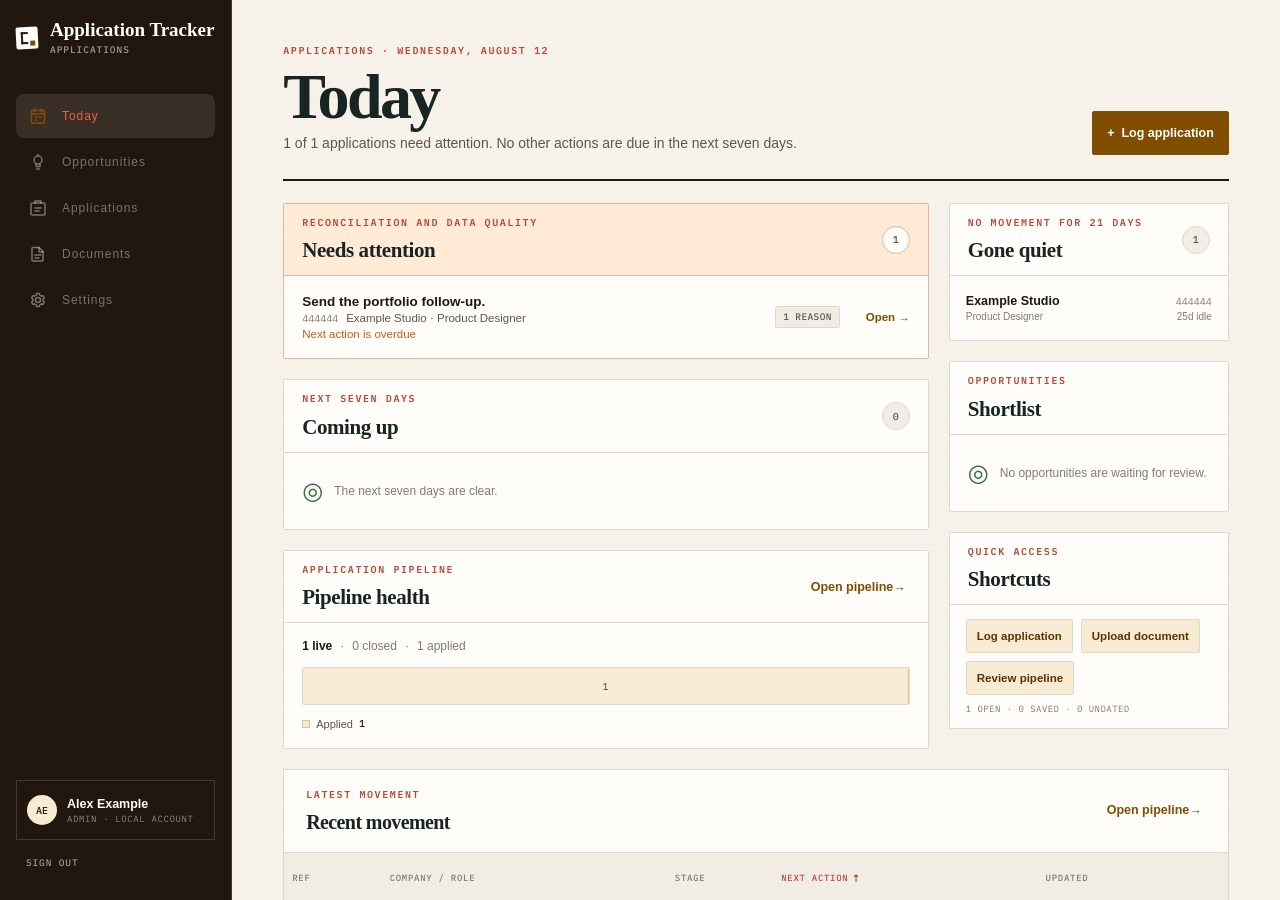
it: application shell › reuses shared workspace data while moving between tabs
Expected: the heading "Today" is shown, [283,60,439,132]
Click the button "Documents".
click(116, 254)  # box [16,232,215,276]
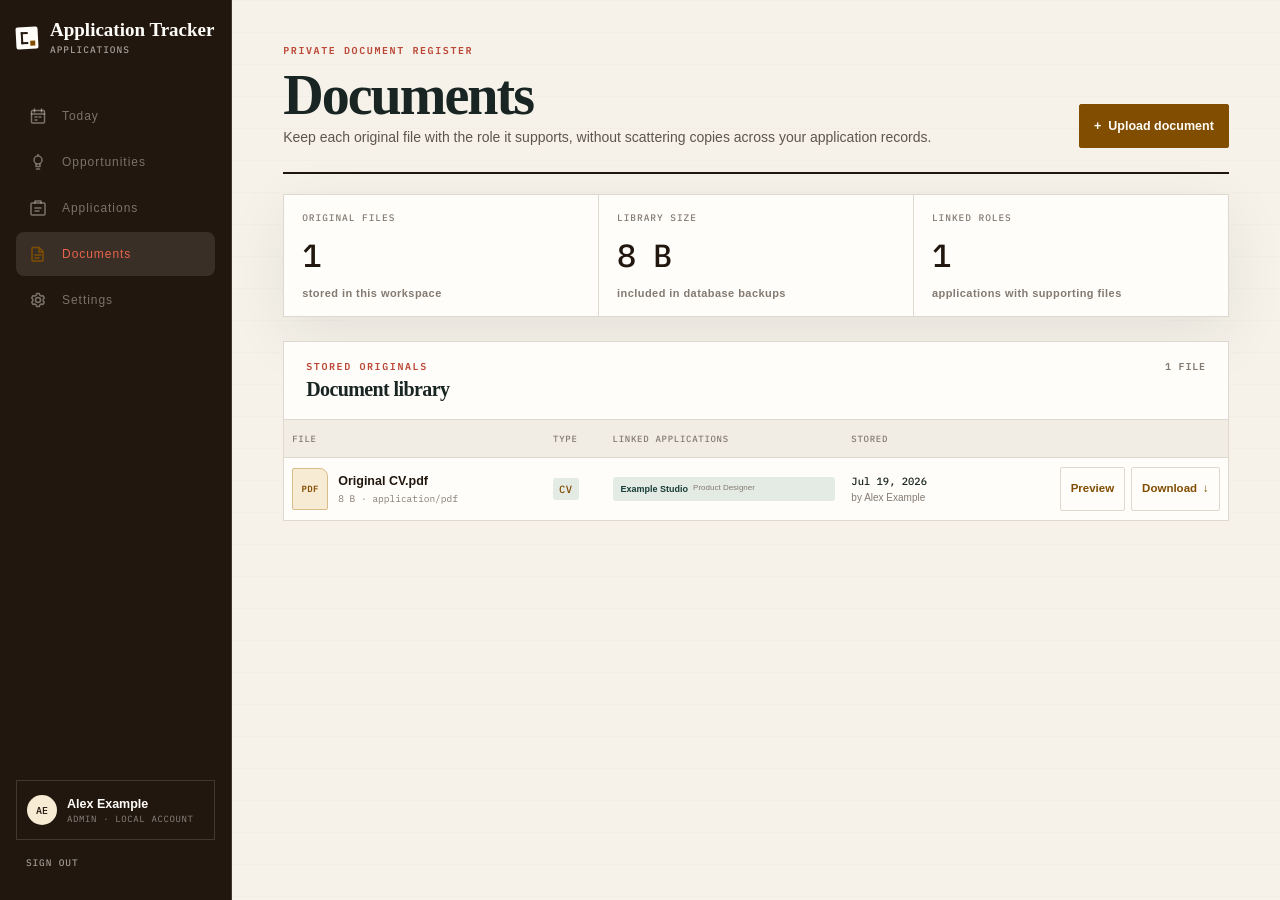
Result: the heading "Documents" is shown at [283,64,533,126]
Click the button "Applications".
click(116, 208)  # box [16,186,215,230]
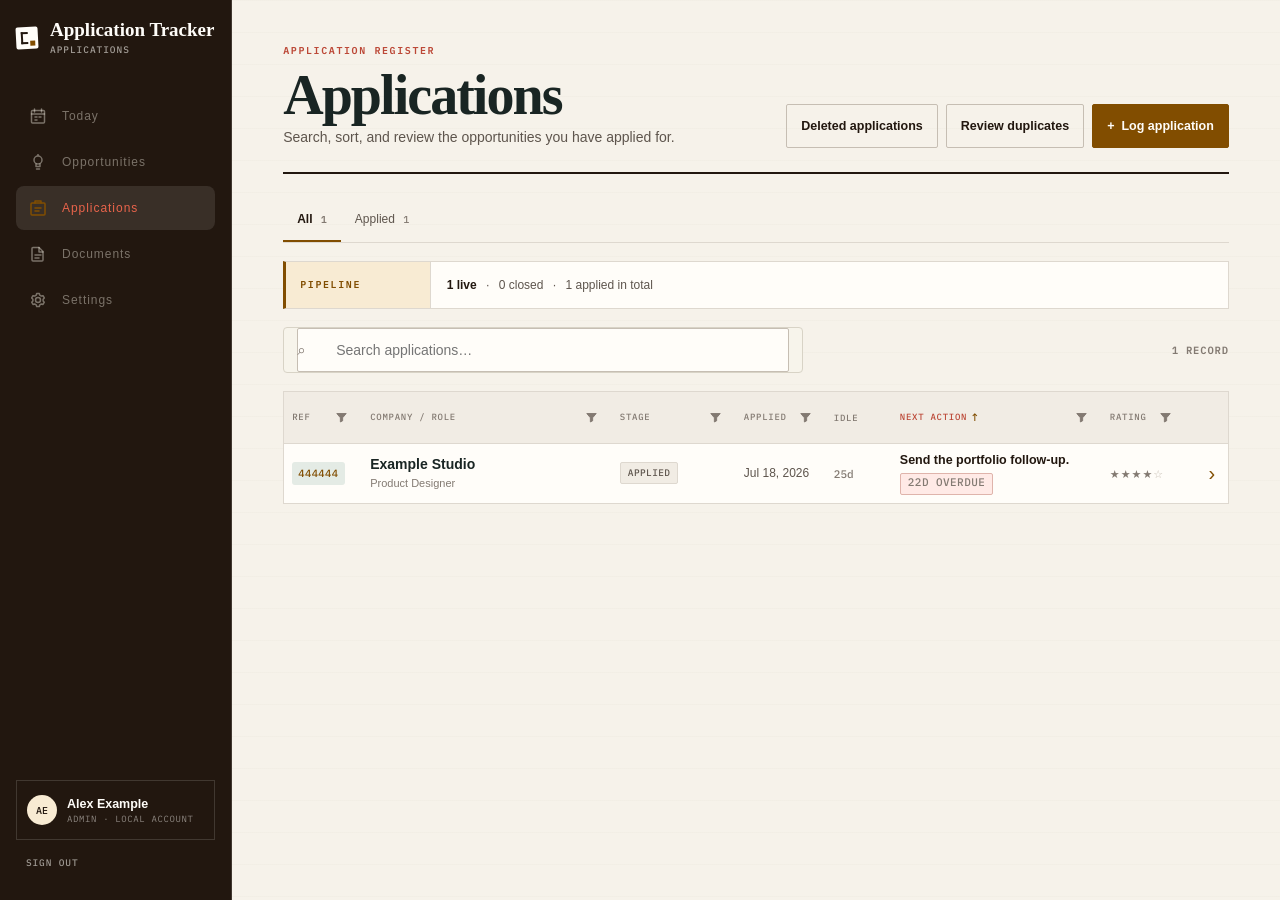
Result: the heading "Applications" is shown at [283,64,562,126]
